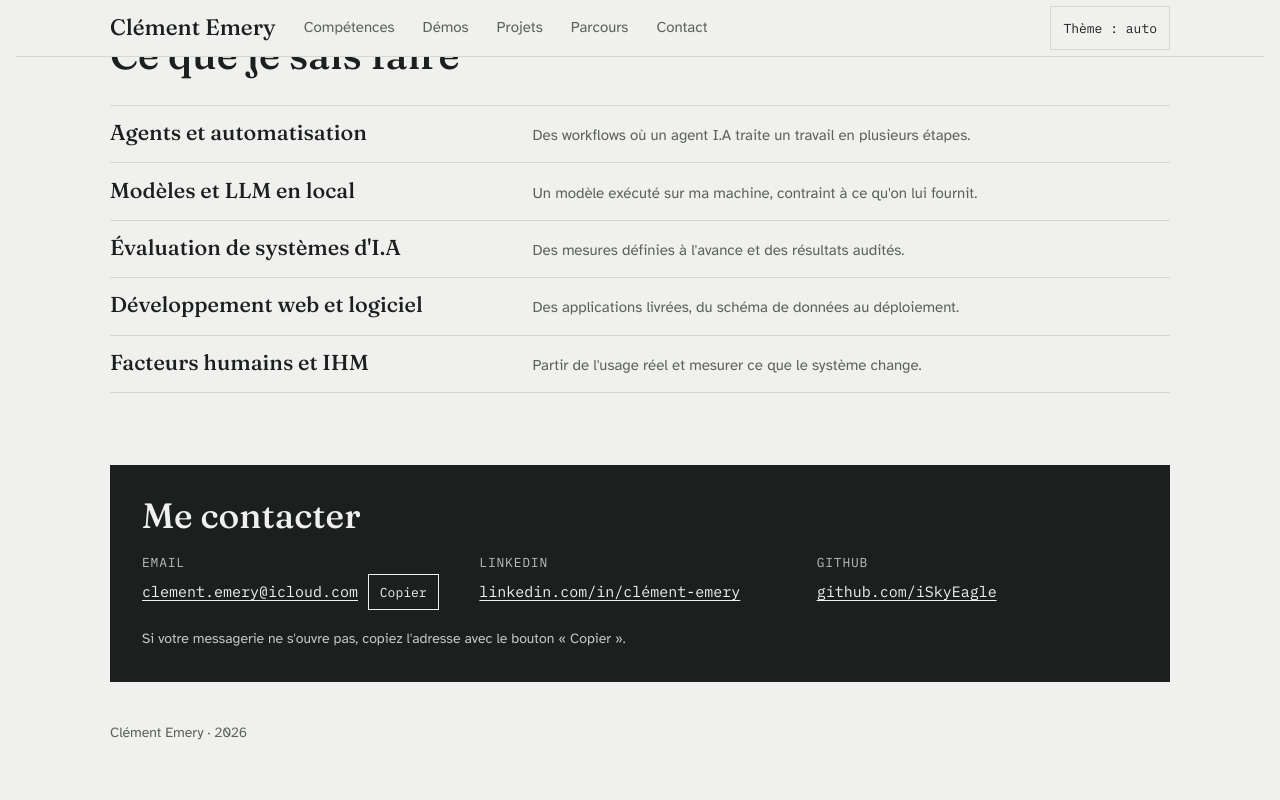
Test: réglages et contact › copie l'adresse email et le confirme
This screenshot has width=1280, height=800.
(page scrolled)
Click the button "Copier". click: (403, 592)
box: [368,574,439,610]
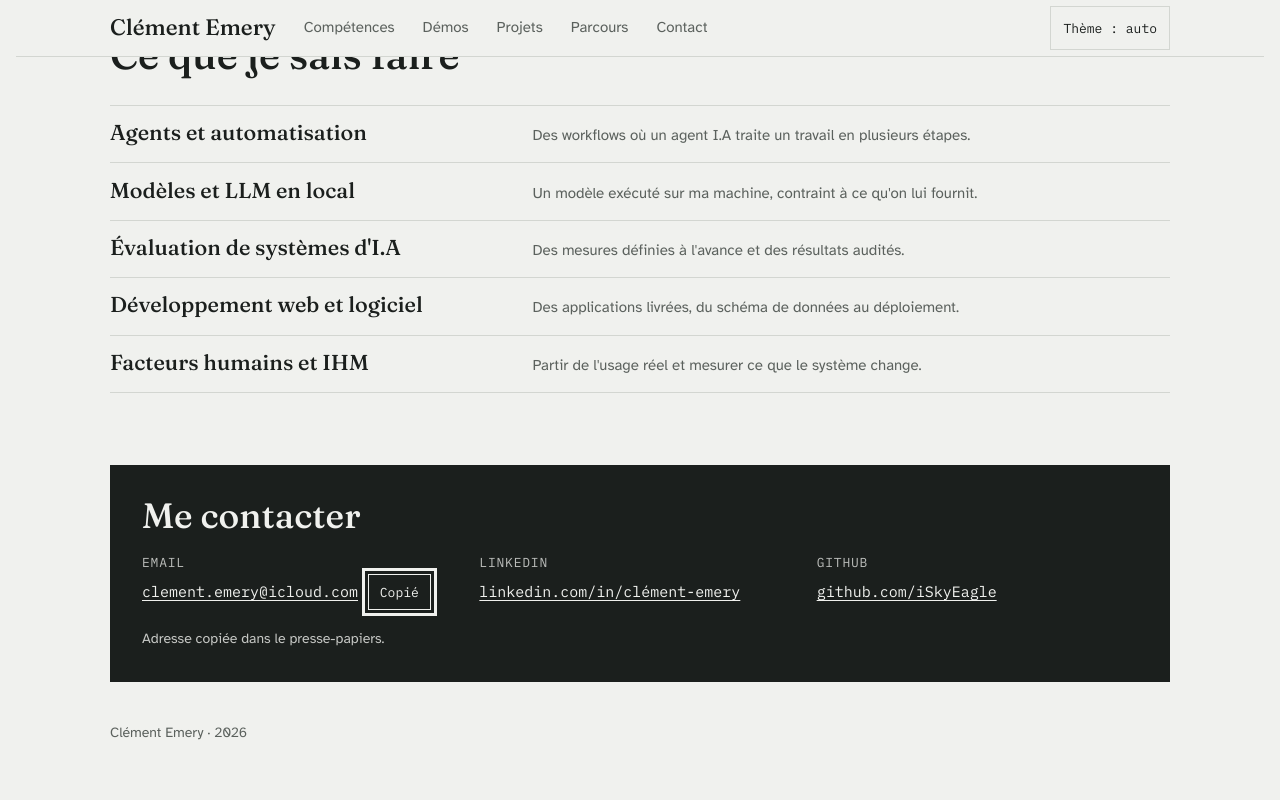
Expected: the text "Adresse copiée dans le presse-papiers." is shown, [142,630,384,647]
